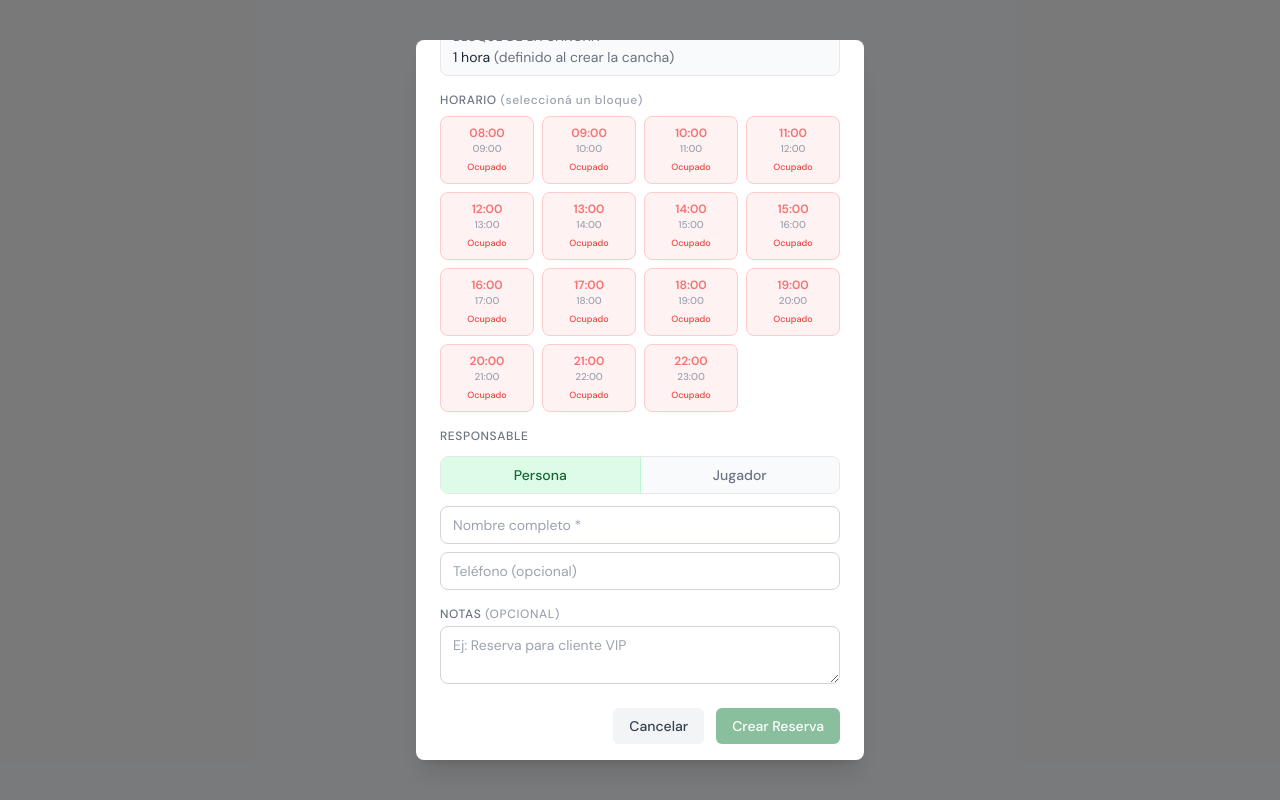
Test: ReservationModal availability › should display the API conflict message when reservation creation fails
The width and height of the screenshot is (1280, 800).
(page scrolled)
Type "Responsable" into the field with placeholder "Nombre completo *". click: (640, 525)
box: left=440, top=506, right=840, bottom=544
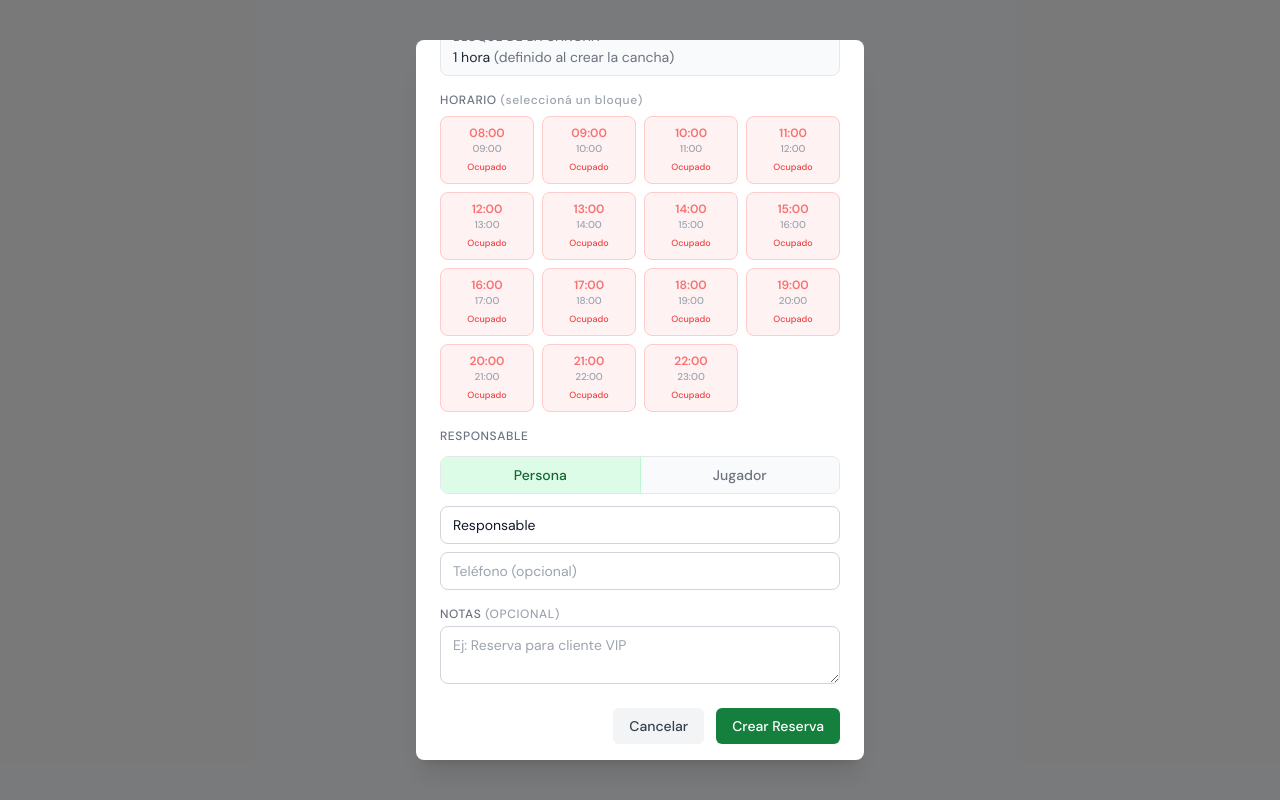
Click the button "Crear Reserva". click: (778, 726)
box: left=716, top=708, right=840, bottom=744
(page scrolled)
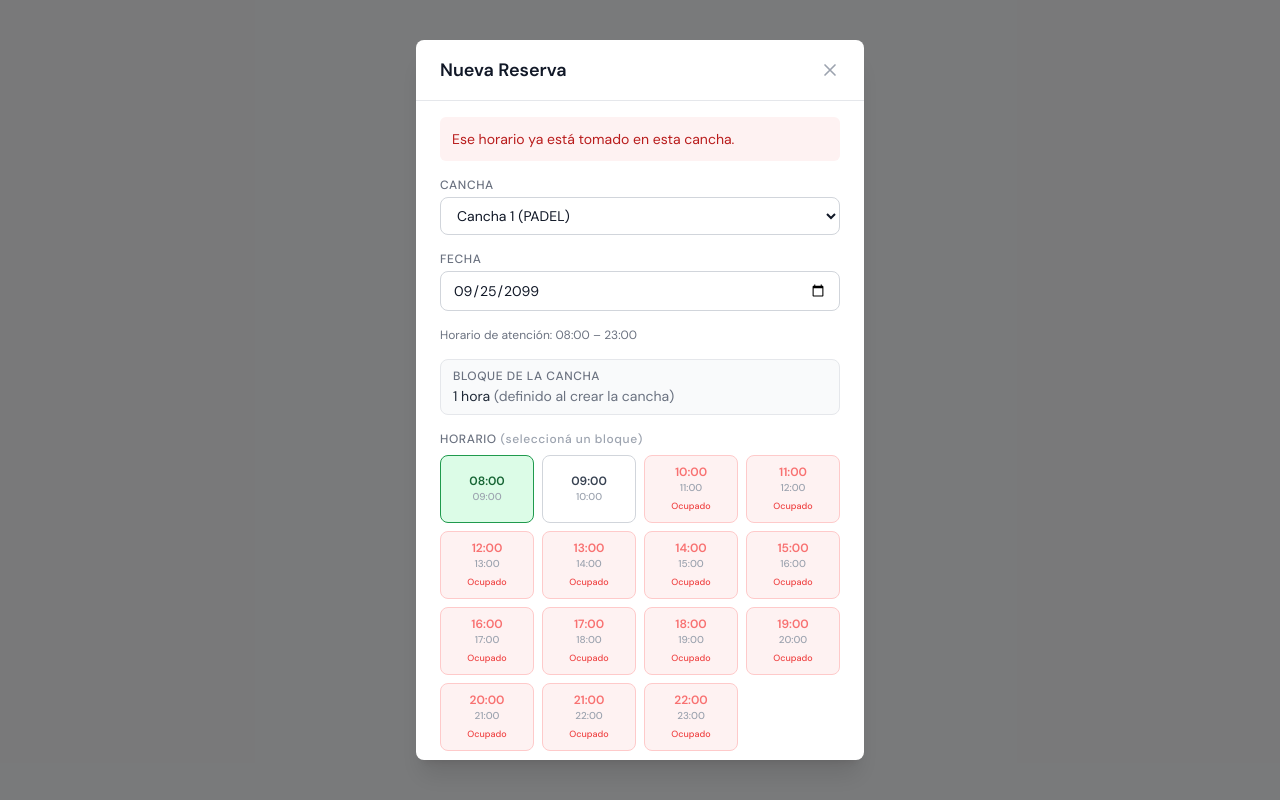
Result: the text "Ese horario ya está tomado en esta cancha." is shown at left=440, top=117, right=840, bottom=161
